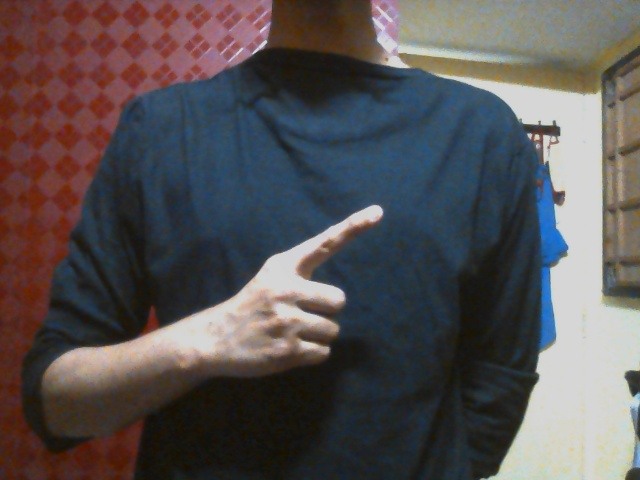I: (227, 204, 387, 378)
